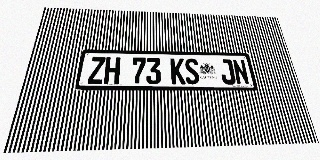3: (146, 58, 161, 84)
7: (131, 57, 146, 84)
H: (103, 57, 121, 84)
J: (219, 59, 236, 84)
K: (170, 58, 186, 84)
N: (232, 59, 250, 84)
S: (184, 58, 200, 84)
Z: (87, 57, 106, 84)
